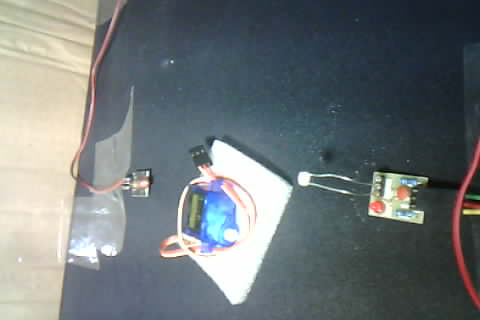motor: (160, 137, 295, 305)
